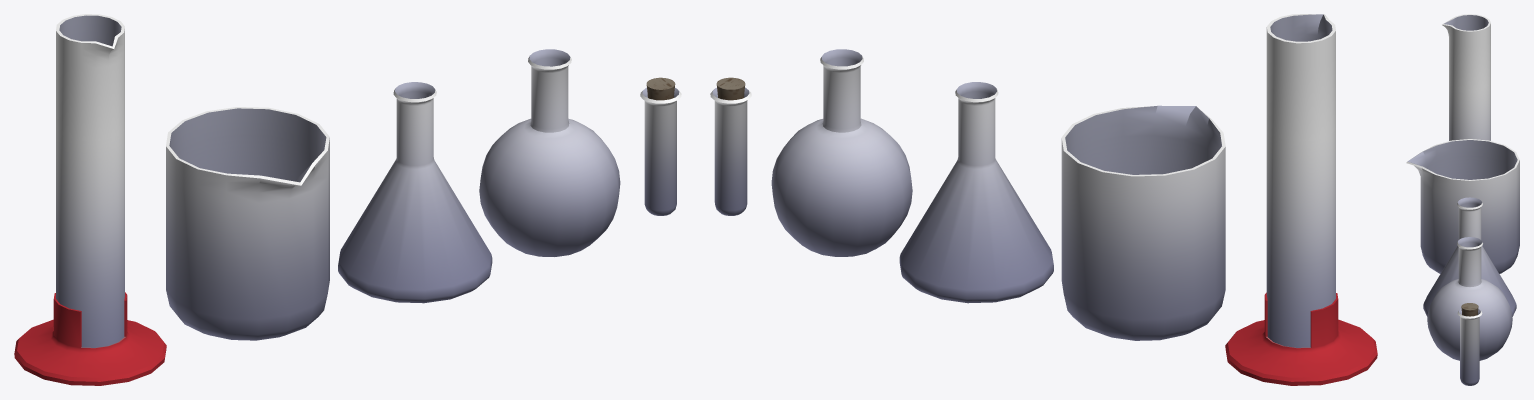
File: Glassware.fbx
3 renders of one model, left to right at view 1: azimuth 30°, elevation 25°; view 2: azimuth 150°, elevation 25°; view 3: azimuth 270°, elevation 25°, orthographic. The views are drawn at different scales.
Visible parts, largest first — view 1: Beaker, Graduated_Cylinder, Conical_Flask, Flat-Bottom Flask, Graduated_Cylinder_Base, Test_Tube, Cork; view 2: Beaker, Graduated_Cylinder, Conical_Flask, Flat-Bottom Flask, Graduated_Cylinder_Base, Test_Tube, Cork; view 3: Beaker, Flat-Bottom Flask, Graduated_Cylinder, Conical_Flask, Test_Tube, Cork.
Part boxes in pixels (box(x1,y1,x2,y2)): Beaker: box(166, 107, 329, 340); Graduated_Cylinder: box(56, 14, 124, 347); Conical_Flask: box(338, 82, 492, 303); Flat-Bottom Flask: box(479, 49, 620, 256); Graduated_Cylinder_Base: box(14, 292, 166, 385); Test_Tube: box(640, 87, 681, 215); Cork: box(646, 77, 675, 100); Beaker: box(1061, 105, 1225, 340); Graduated_Cylinder: box(1266, 14, 1335, 347); Conical_Flask: box(899, 82, 1053, 303); Flat-Bottom Flask: box(771, 49, 912, 256); Graduated_Cylinder_Base: box(1225, 292, 1377, 385); Test_Tube: box(710, 87, 751, 215); Cork: box(716, 77, 745, 100); Beaker: box(1406, 139, 1519, 273); Flat-Bottom Flask: box(1427, 237, 1512, 360); Graduated_Cylinder: box(1442, 14, 1490, 140); Conical_Flask: box(1423, 197, 1516, 316); Test_Tube: box(1457, 309, 1482, 385); Cork: box(1461, 303, 1478, 316).
Size of the model in its own units: 1063 by 506 by 266.
Materials: 1 (1 with a texture image).
